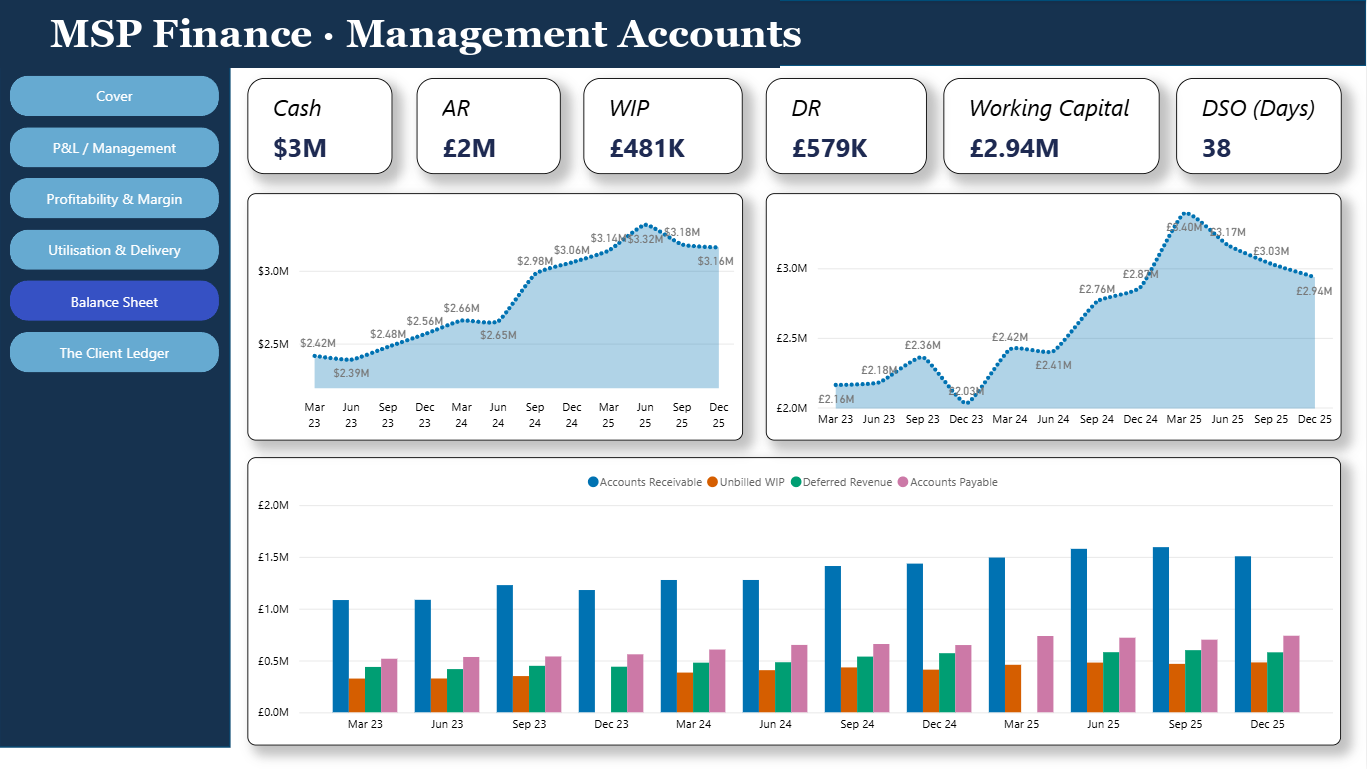

The page's visual inventory and layout, read from the dashboard file:
{"tool":"powerbi","page":{"name":"Balance Sheet","canvas":[1280,720],"ordinal":4},"visuals":[{"type":"shape","box":[0,0,216.9,700.1],"z":0,"group":"g1"},{"type":"shape","box":[0,0,1280.6,61.9],"z":1000,"group":"g1"},{"type":"cardVisual","fields":{"Data":["_Measures.Deferred Revenue"]},"box":[718.1,73,150.6,89.9],"z":1000},{"type":"cardVisual","fields":{"Data":["_Measures.Working Capital"]},"box":[884.4,73,202.3,89.9],"z":2000},{"type":"textbox","title":"RVS iGlobal · Management Accounts","box":[0,0,718.6,61.3],"z":3000,"group":"g1"},{"type":"cardVisual","fields":{"Data":["_Measures.DSO (Days)"]},"box":[1102.4,73,155.1,89.9],"z":3000},{"type":"cardVisual","fields":{"Data":["_Measures.Unbilled WIP"]},"box":[547.3,73,149.5,89.9],"z":4000},{"type":"cardVisual","fields":{"Data":["_Measures.Cash & Equivalents"]},"box":[232.6,73,136,89.9],"z":5000},{"type":"cardVisual","fields":{"Data":["_Measures.Accounts Receivable"]},"box":[391.1,73,134.9,89.9],"z":6000},{"type":"lineChart","fields":{"Category":["dim_date.Date Hierarchy.MonthYear"],"Y":["_Measures.Cash & Equivalents"]},"box":[232.6,180.9,464.1,231.5],"z":7000},{"type":"lineChart","fields":{"Category":["dim_date.Date Hierarchy.MonthYear"],"Y":["_Measures.Working Capital"]},"box":[718.1,180.9,539.4,231.5],"z":8000},{"type":"clusteredColumnChart","fields":{"Category":["dim_date.Date Hierarchy.MonthYear"],"Y":["_Measures.Accounts Receivable","_Measures.Unbilled WIP","_Measures.Deferred Revenue","_Measures.Accounts Payable"]},"box":[232.6,428.2,1023.8,269.7],"z":9000},{"type":"group","id":"g1","title":"Group 2","box":[0,0,1280.6,700.1],"z":10000},{"type":"pageNavigator","box":[10.1,70.8,196.7,280.9],"z":16000,"group":"g1"}]}

Visuals, with their boxes in screenshot pixels (x1, y1, x2, y2), scaled from the page's 1280x720 canvas onto the 1367x769 screenshot:
shape: detection(0, 0, 232, 748)
shape: detection(0, 0, 1366, 66)
cardVisual - _Measures.Deferred Revenue: detection(767, 78, 928, 174)
cardVisual - _Measures.Working Capital: detection(945, 78, 1161, 174)
"RVS iGlobal · Management Accounts" textbox: detection(0, 0, 767, 65)
cardVisual - _Measures.DSO (Days): detection(1177, 78, 1343, 174)
cardVisual - _Measures.Unbilled WIP: detection(584, 78, 744, 174)
cardVisual - _Measures.Cash & Equivalents: detection(248, 78, 394, 174)
cardVisual - _Measures.Accounts Receivable: detection(418, 78, 562, 174)
lineChart - dim_date.Date Hierarchy.MonthYear x _Measures.Cash & Equivalents: detection(248, 193, 744, 440)
lineChart - dim_date.Date Hierarchy.MonthYear x _Measures.Working Capital: detection(767, 193, 1343, 440)
clusteredColumnChart - dim_date.Date Hierarchy.MonthYear x _Measures.Accounts Receivable: detection(248, 457, 1342, 745)
"Group 2" group: detection(0, 0, 1366, 748)
pageNavigator: detection(11, 76, 221, 376)
